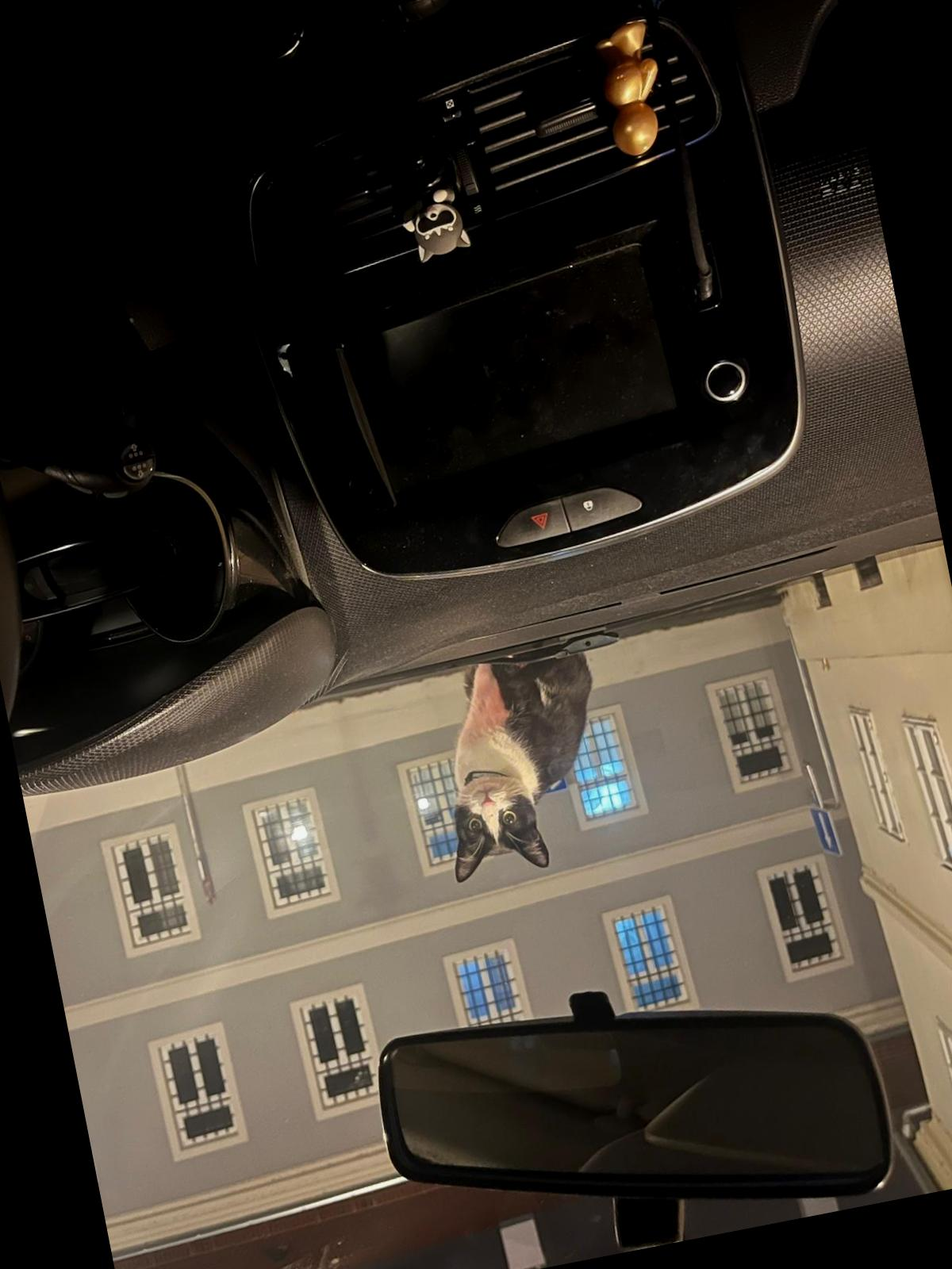macka: (417, 644, 625, 884)
